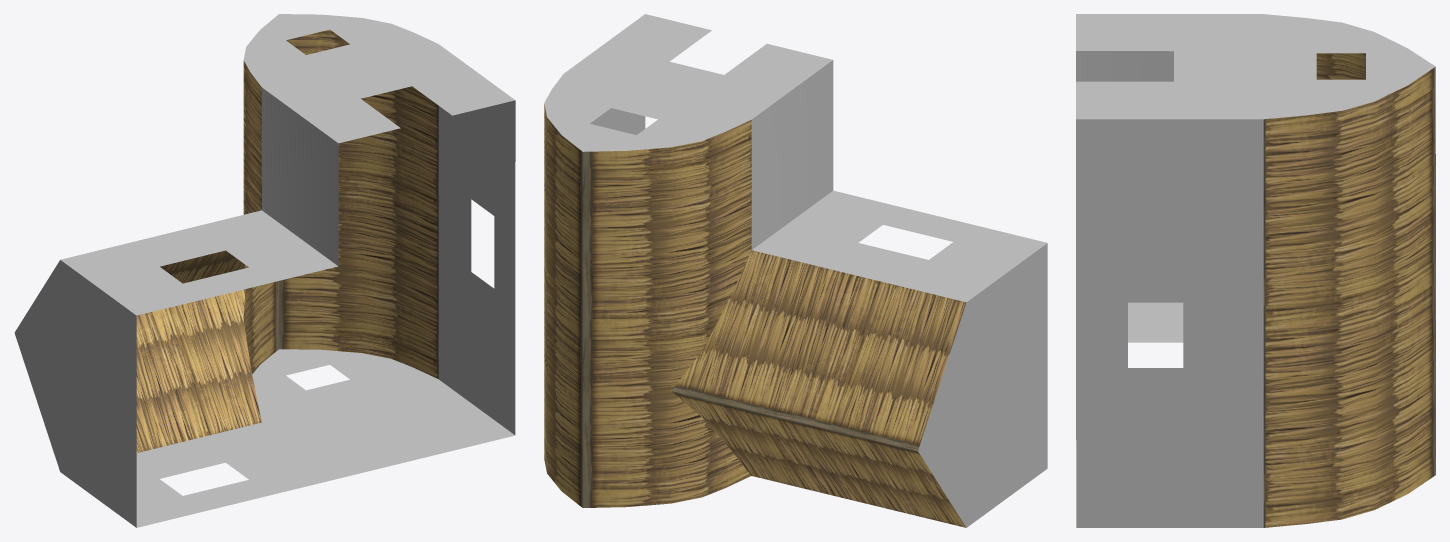
The model's file is Pirate_House_Interior_Type01_D.fbx.
3 views of the same model, side by side, from view 1: azimuth 30°, elevation 25°; view 2: azimuth 150°, elevation 25°; view 3: azimuth 270°, elevation 25° (orthographic). The views are drawn at different scales.
Visible parts, largest first — view 1: Pirate_House_Interior_Type01_D; view 2: Pirate_House_Interior_Type01_D; view 3: Pirate_House_Interior_Type01_D.
Boxes of the visible parts, <box> form: Pirate_House_Interior_Type01_D: <box>14,14,515,527</box>; Pirate_House_Interior_Type01_D: <box>544,14,1047,527</box>; Pirate_House_Interior_Type01_D: <box>1076,14,1435,527</box>.
Bounding box in the file's own units: 11.51 × 9.73 × 7.77.
